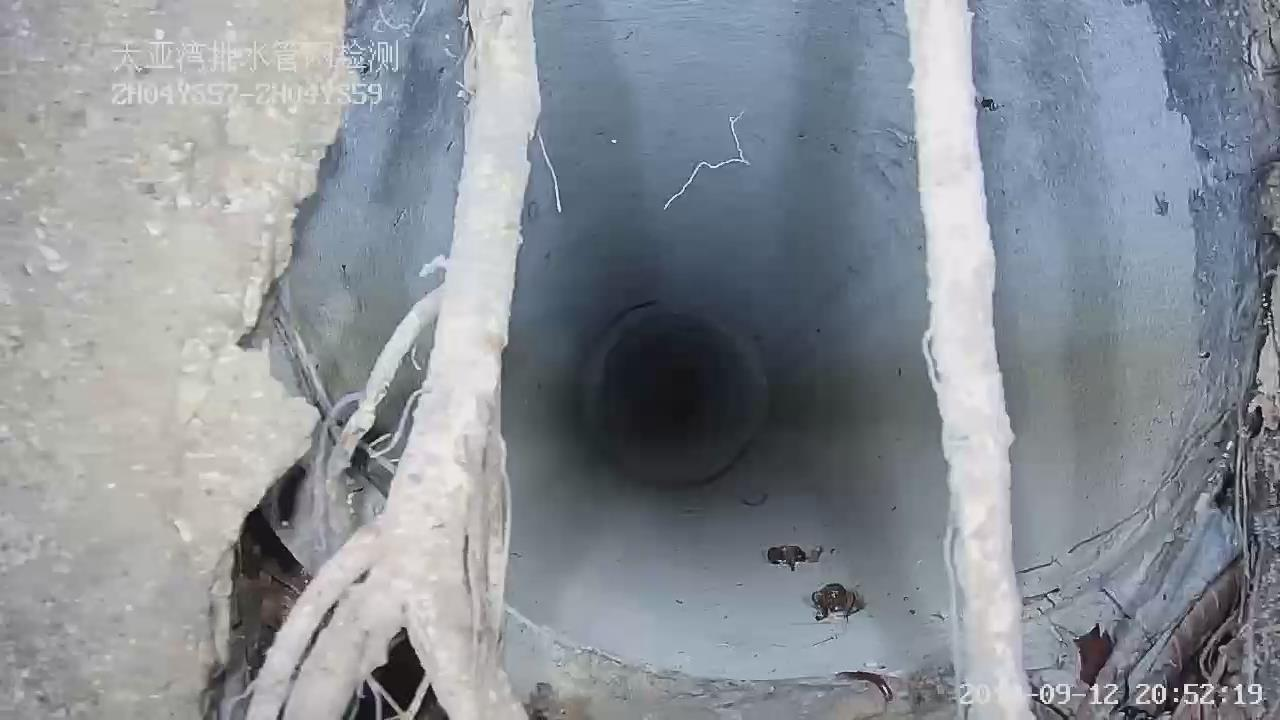SG: (245, 0, 541, 719), (904, 0, 1031, 719)
